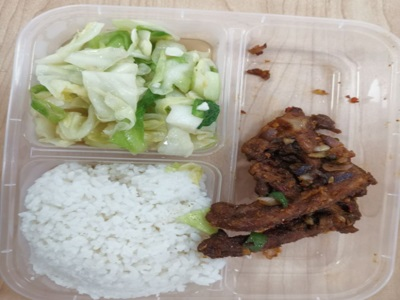cct: (40, 24, 204, 153)
rice: (32, 162, 206, 290)
yt: (252, 104, 364, 252)
